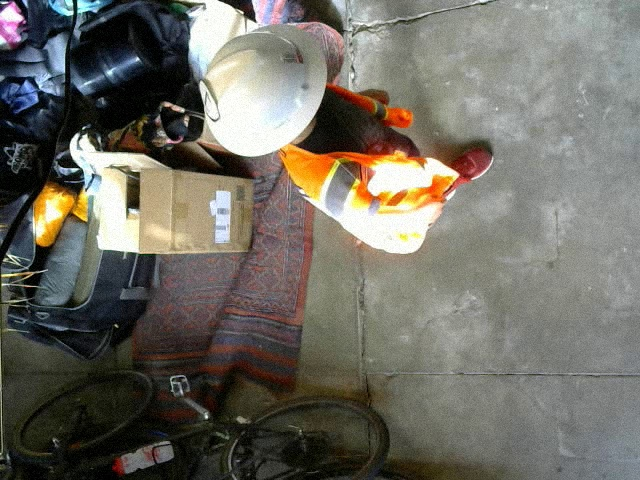one: (198, 80, 219, 121)
